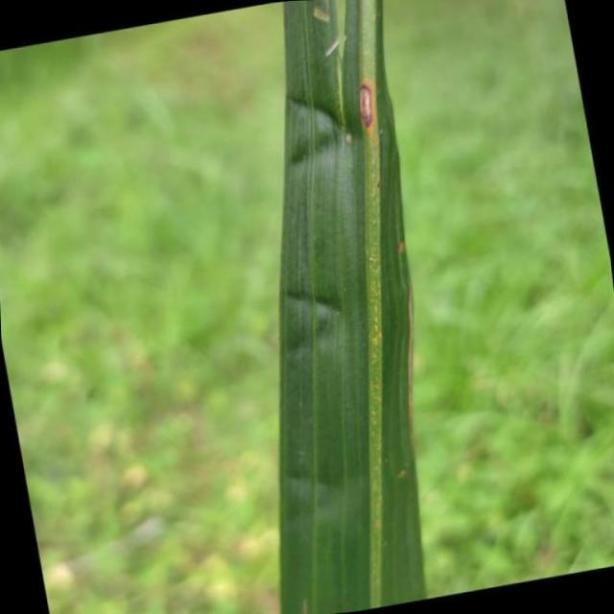Boron: (280, 0, 428, 614)
